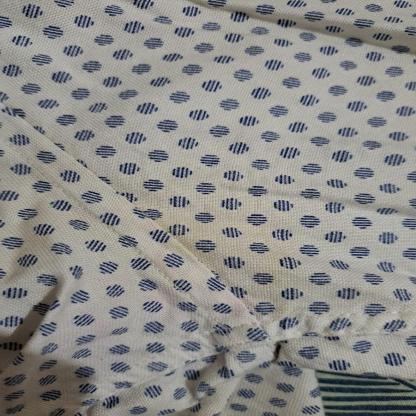spot: (109, 176, 292, 296)
